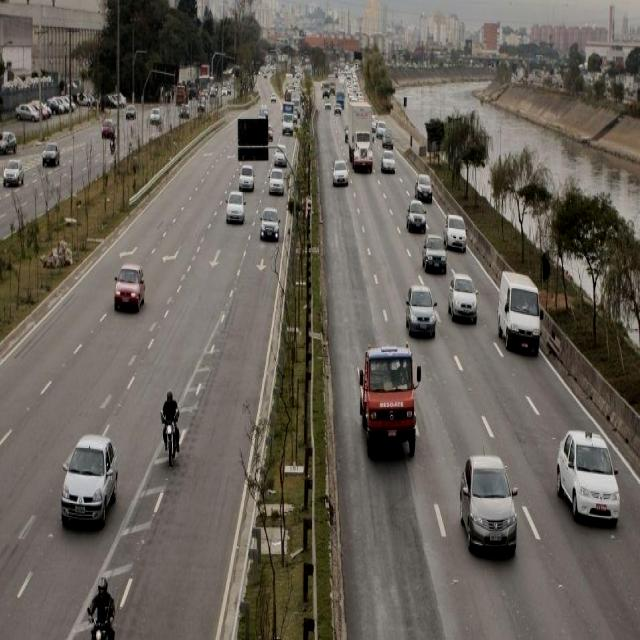Caminhao: (354, 344, 422, 462), (347, 98, 373, 174)
Carro Branco: (551, 419, 623, 538)
Carro Cinza: (456, 450, 518, 561), (403, 283, 438, 347)
Carro Prata: (54, 434, 121, 530), (446, 272, 479, 330), (443, 210, 469, 248), (226, 188, 244, 228), (331, 156, 351, 192), (238, 163, 254, 193), (270, 169, 284, 195), (381, 151, 393, 174)
Carro Preto: (422, 230, 448, 274), (404, 190, 428, 237), (258, 202, 281, 246), (414, 171, 432, 206)
Carro Vermelho: (112, 258, 146, 323)
Van Branca: (496, 268, 544, 360)
